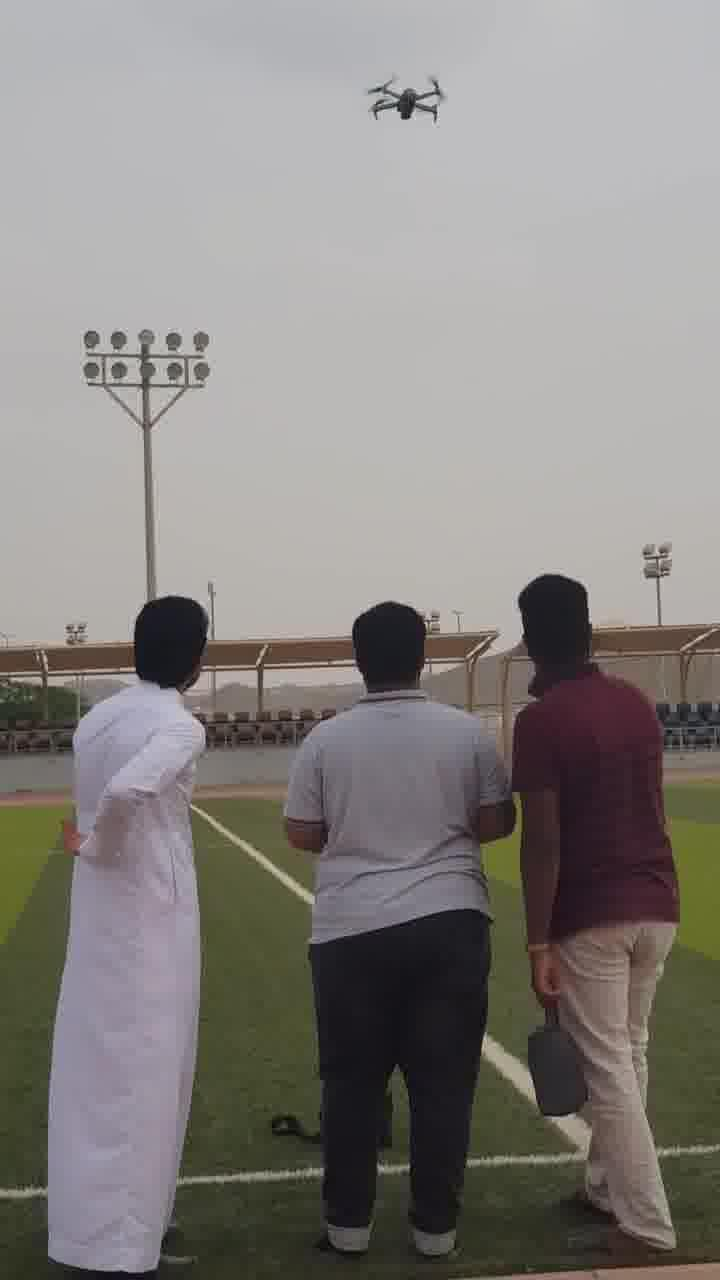drone: (359, 73, 454, 138)
